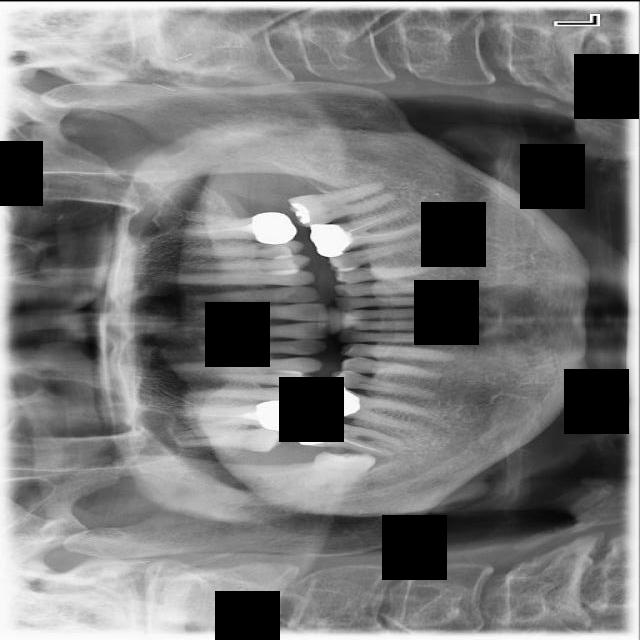52: (304, 211, 355, 265), (310, 377, 364, 428), (291, 407, 345, 456), (246, 206, 300, 250), (286, 191, 340, 228), (254, 397, 300, 432)
73: (342, 202, 422, 250), (334, 421, 406, 459), (172, 402, 261, 430), (173, 212, 250, 240), (567, 34, 578, 44)
Blue Sky Bio Implant: (286, 180, 397, 229)
Caries: (166, 425, 289, 455)
Implant: (293, 411, 405, 458)
Keystone Dental Implant: (304, 449, 377, 494)
